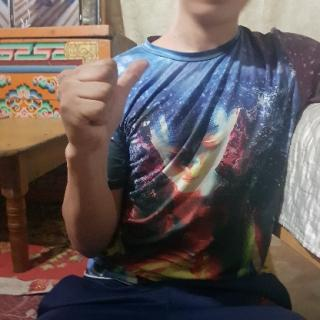WAW: (56, 53, 152, 151)
